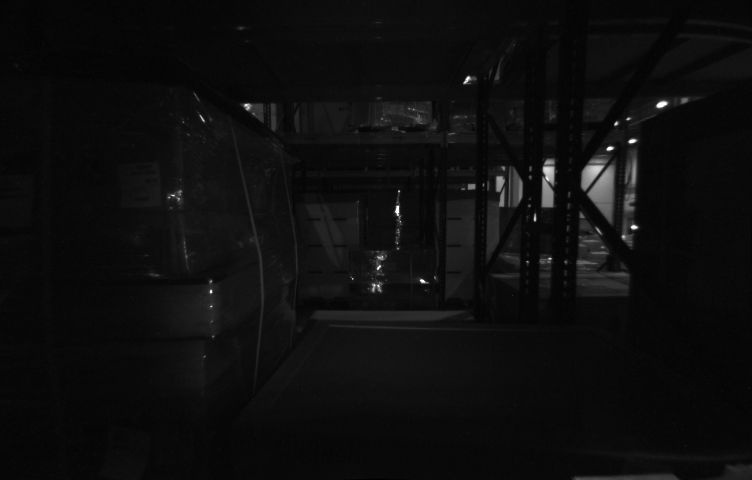True Barcode: (121, 163, 162, 206)
